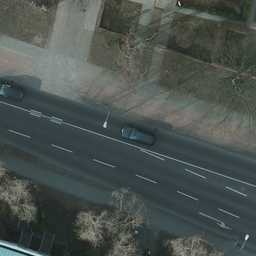car: (121, 123, 156, 146), (1, 75, 24, 102)
